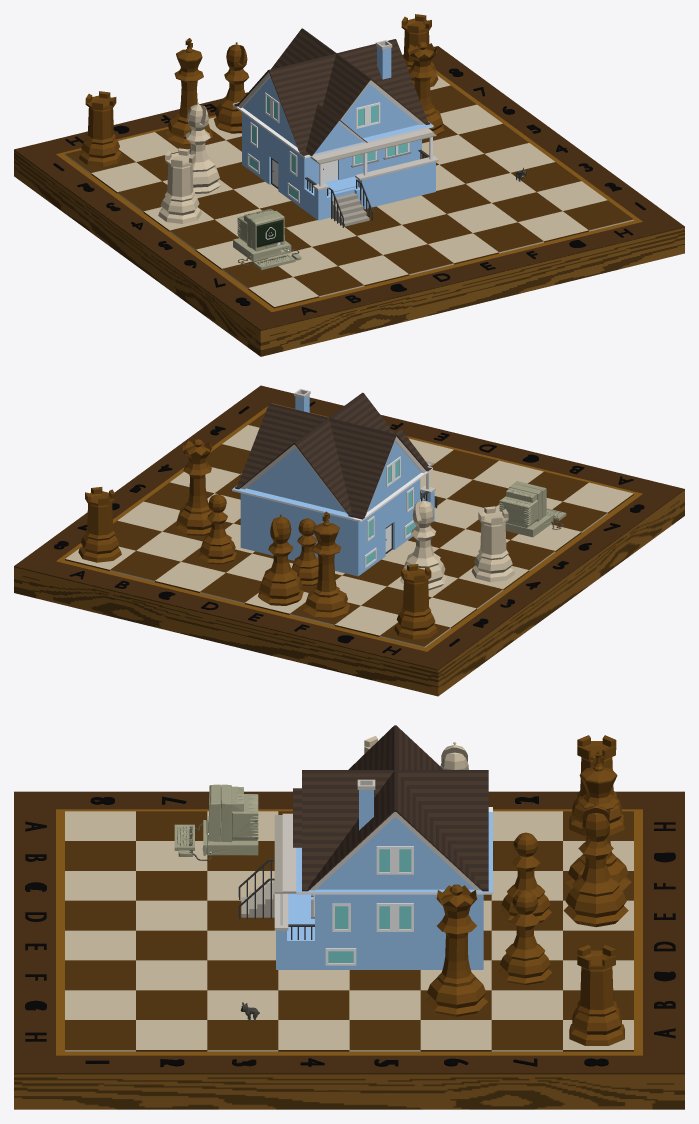
3 renders of one model, top to bottom at view 1: azimuth 30°, elevation 25°; view 2: azimuth 150°, elevation 25°; view 3: azimuth 270°, elevation 25°, orthographic. The views are drawn at different scales.
Parts seen in each view (by area): view 1: Cube.002, Cube.1594, OBJRANDOM_RETRO_PC; view 2: Cube.002, Cube.1594, OBJRANDOM_RETRO_PC; view 3: Cube.002, Cube.1594, OBJRANDOM_RETRO_PC.
Boxes of the visible parts, x1,y1,x2,y2 form: Cube.002: (14,14,684,356); Cube.1594: (232,28,438,227); OBJRANDOM_RETRO_PC: (233,208,301,270); Cube.002: (14,385,684,696); Cube.1594: (232,389,437,576); OBJRANDOM_RETRO_PC: (499,481,566,537); Cube.002: (14,735,684,1109); Cube.1594: (238,725,492,969); OBJRANDOM_RETRO_PC: (174,784,258,860).
Bounding box in the file's own units: 3981 × 1484 × 4012.
29 materials, 2 textured.
